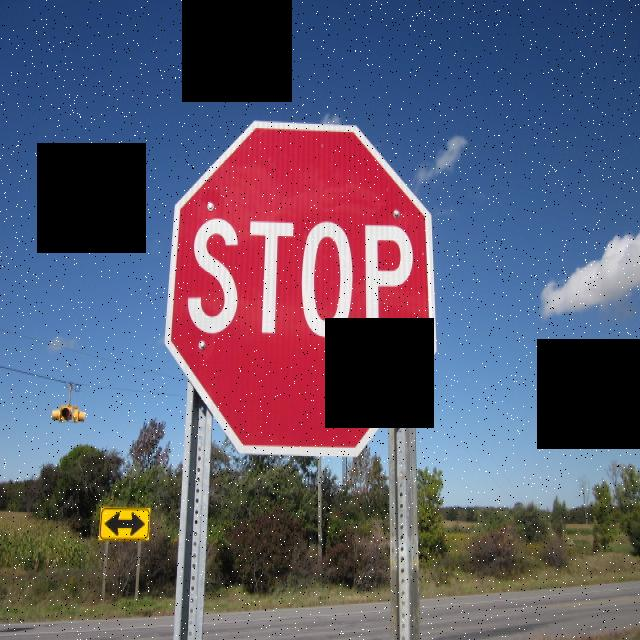stop: (166, 119, 439, 457)
warning: (98, 505, 153, 543)
